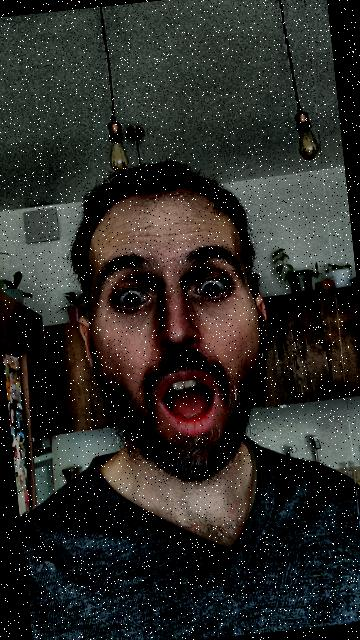surprised: (56, 144, 289, 505)
